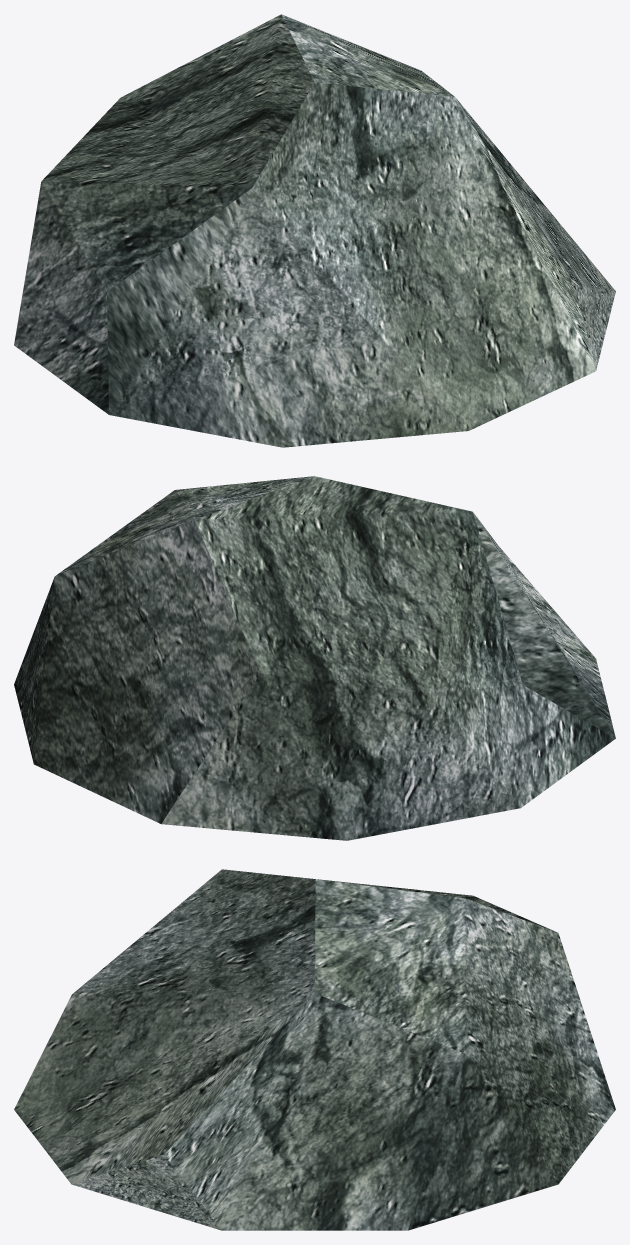
The model's file is rock_B.obj.
3 views of the same model, one above another, from view 1: azimuth 30°, elevation 25°; view 2: azimuth 150°, elevation 25°; view 3: azimuth 270°, elevation 25° (orthographic). The views are drawn at different scales.
Parts seen in each view (by area): view 1: Icosphere; view 2: Icosphere; view 3: Icosphere.
Boxes of the visible parts, x1,y1,x2,y2 form: Icosphere: (14, 14, 615, 447); Icosphere: (14, 476, 615, 840); Icosphere: (14, 869, 615, 1230).
Bounding box in the file's own units: 1.9 × 0.8507 × 2.
Materials: 1 (1 with a texture image).
